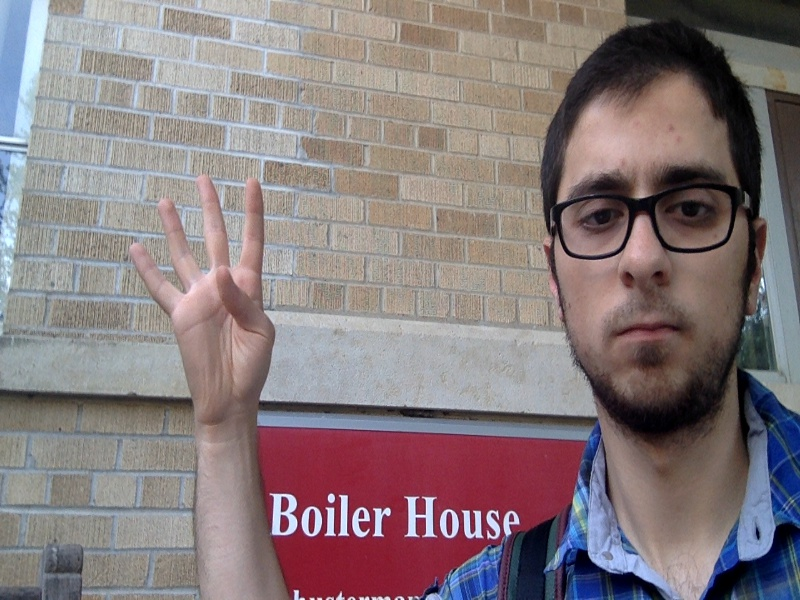4-hand: (127, 175, 280, 427)
